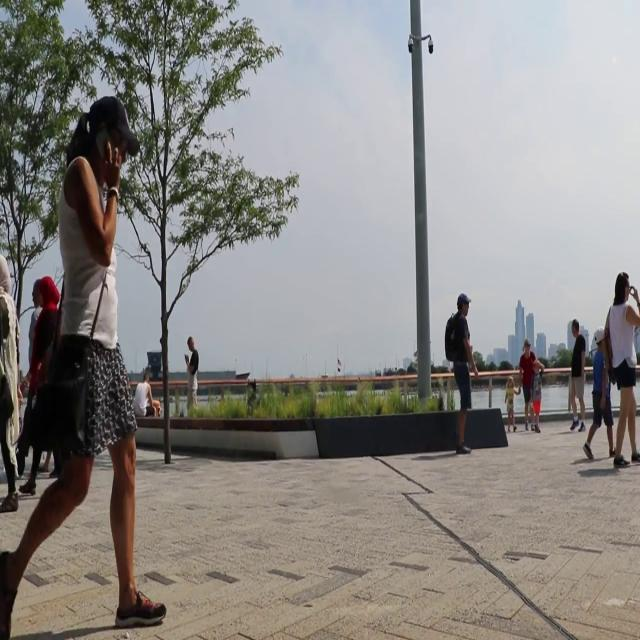normal: (1, 97, 165, 629), (609, 270, 640, 478), (445, 292, 477, 466), (563, 319, 589, 435)
